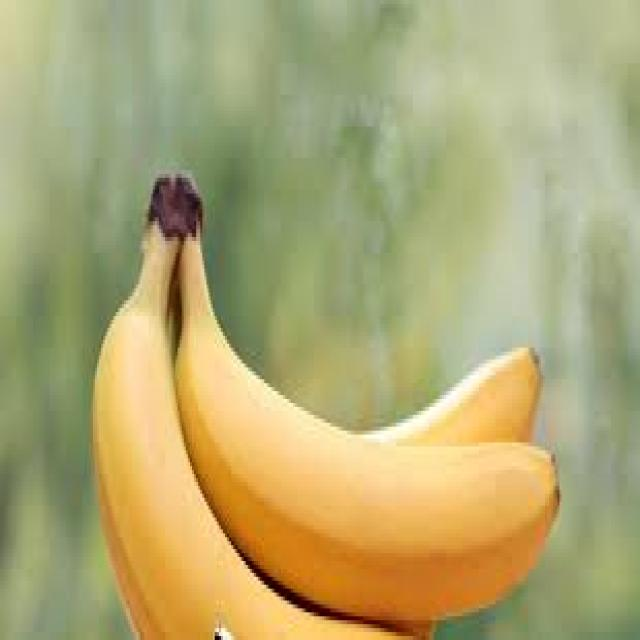banana: (91, 170, 559, 636)
